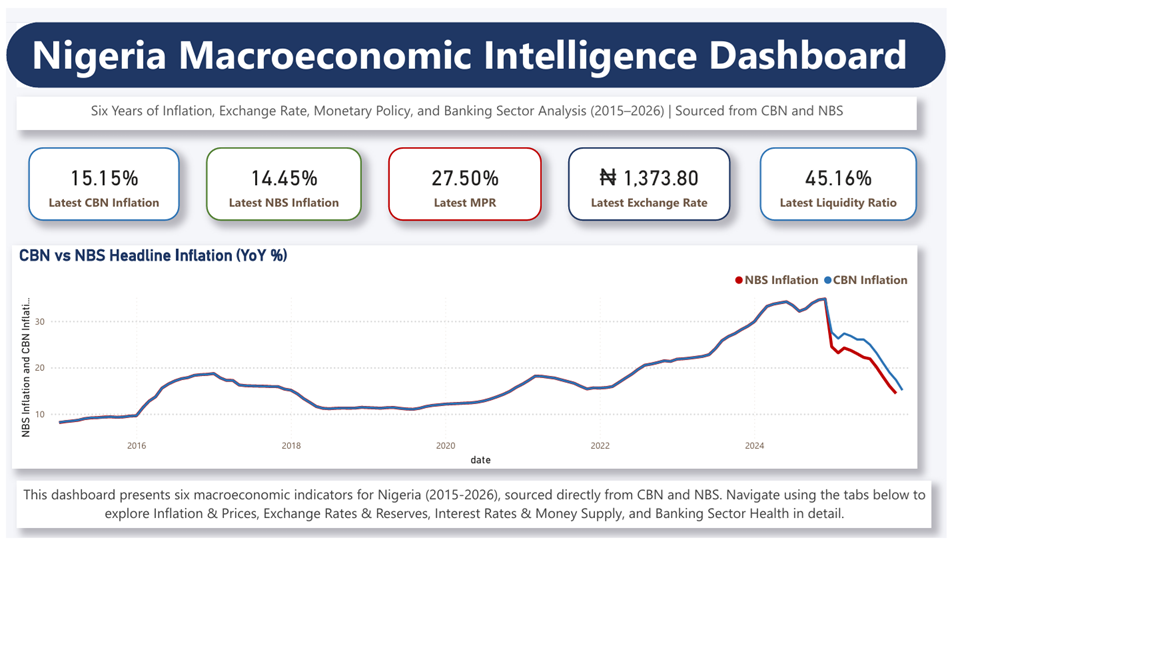

What the dashboard file says about the page in this screenshot:
{"tool":"powerbi","page":{"name":"Overview","canvas":[1280,720],"ordinal":0},"visuals":[{"type":"card","fields":{"Values":["cbn_inflation_clean.Latest CBN Inflation"]},"box":[30.2,189,206,100.2],"z":0},{"type":"card","fields":{"Values":["nbs_cpi_clean.Latest NBS Inflation"]},"box":[272.1,189,211.7,100.2],"z":1000},{"type":"card","fields":{"Values":["cbn_mpr_clean.Latest MPR"]},"box":[519.7,189,209.8,100.2],"z":2000},{"type":"lineChart","title":"CBN vs NBS Headline Inflation (YoY %)","fields":{"Category":["cbn_inflation_clean.date"],"Y":["Sum(nbs_cpi_clean.inflation_yoy)","Sum(cbn_inflation_clean.headline_inflation_yoy)"]},"box":[7.6,323.2,1232.1,302.4],"z":3000},{"type":"textbox","box":[15.1,20.8,1245.4,86.9],"z":4000},{"type":"textbox","box":[15.1,120.9,1224.6,45.4],"z":5000},{"type":"card","fields":{"Values":["cbn_exchange_rate_merged.Latest Exchange Rate"]},"box":[765.4,189,221.1,100.2],"z":6000},{"type":"card","fields":{"Values":["cbn_banking_ratios_clean.Latest Liquidity Ratio"]},"box":[1026.1,189,213.5,100.2],"z":7000},{"type":"textbox","box":[15.1,642.5,1245.4,64.3],"z":8000},{"type":"shape","box":[0,18.9,1279.4,88.8],"z":9000},{"type":"textbox","box":[15.1,18.9,1232.1,88.8],"z":10000}]}

Visuals, with their boxes in screenshot pixels (x1, y1, x2, y2), scaled from the page's 1280x720 canvas onto the 1152x648 screenshot:
card - cbn_inflation_clean.Latest CBN Inflation: bbox(27, 170, 213, 260)
card - nbs_cpi_clean.Latest NBS Inflation: bbox(245, 170, 435, 260)
card - cbn_mpr_clean.Latest MPR: bbox(468, 170, 657, 260)
"CBN vs NBS Headline Inflation (YoY %)" lineChart: bbox(7, 291, 1116, 563)
textbox: bbox(14, 19, 1134, 97)
textbox: bbox(14, 109, 1116, 150)
card - cbn_exchange_rate_merged.Latest Exchange Rate: bbox(689, 170, 888, 260)
card - cbn_banking_ratios_clean.Latest Liquidity Ratio: bbox(923, 170, 1116, 260)
textbox: bbox(14, 578, 1134, 636)
shape: bbox(0, 17, 1151, 97)
textbox: bbox(14, 17, 1122, 97)
